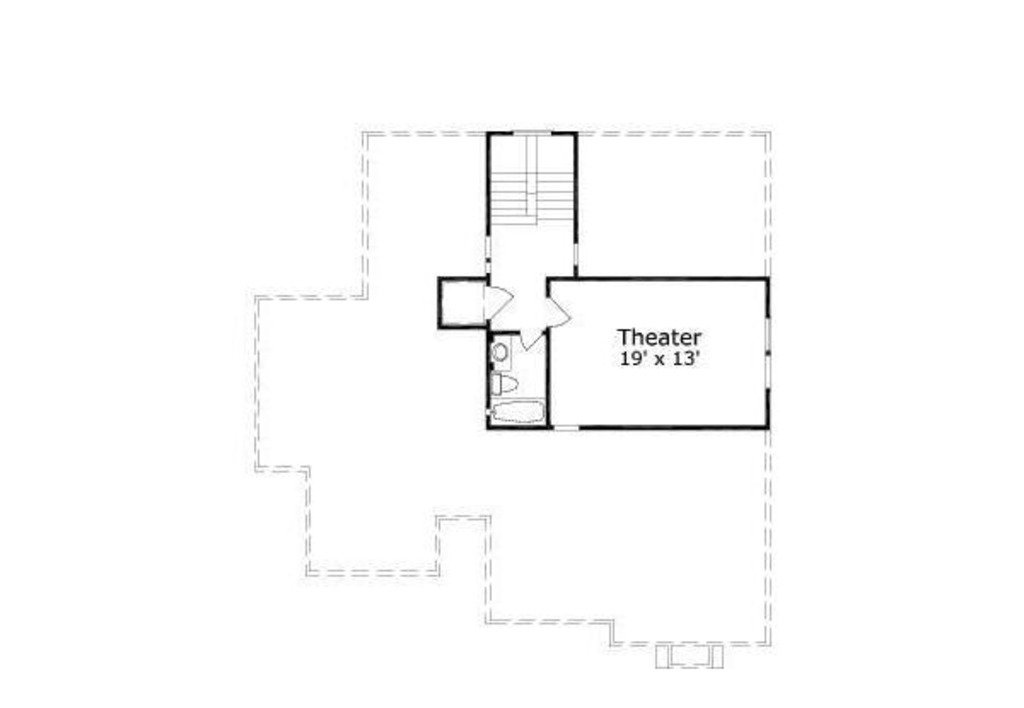door: (486, 288, 512, 329), (516, 330, 545, 356), (544, 298, 567, 328)
large_sink: (489, 374, 526, 394)
small_sink: (489, 336, 515, 369)
stairs: (490, 131, 573, 227)
tub: (493, 401, 547, 430)
window: (518, 129, 557, 141), (762, 352, 774, 385), (764, 319, 772, 351)
